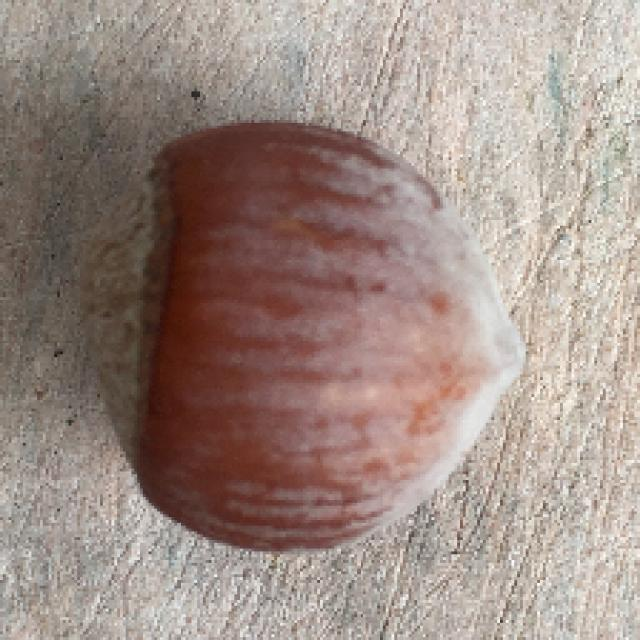QualityHazelnut: (80, 121, 527, 554)
